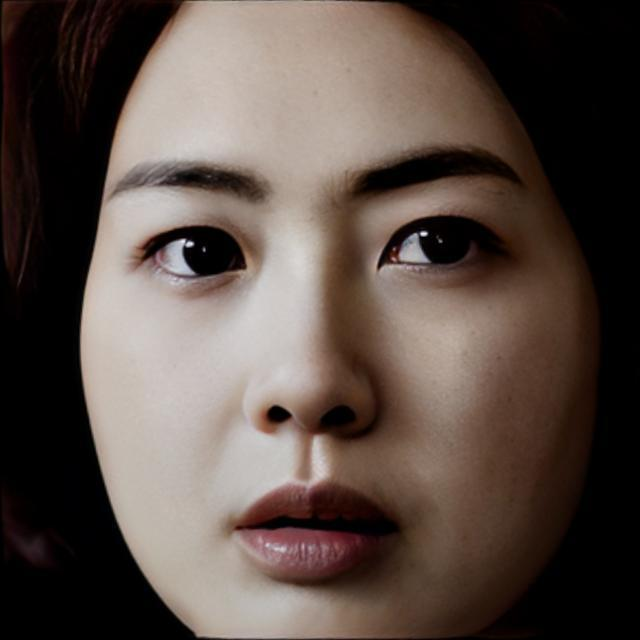surprise: (78, 0, 604, 640)
